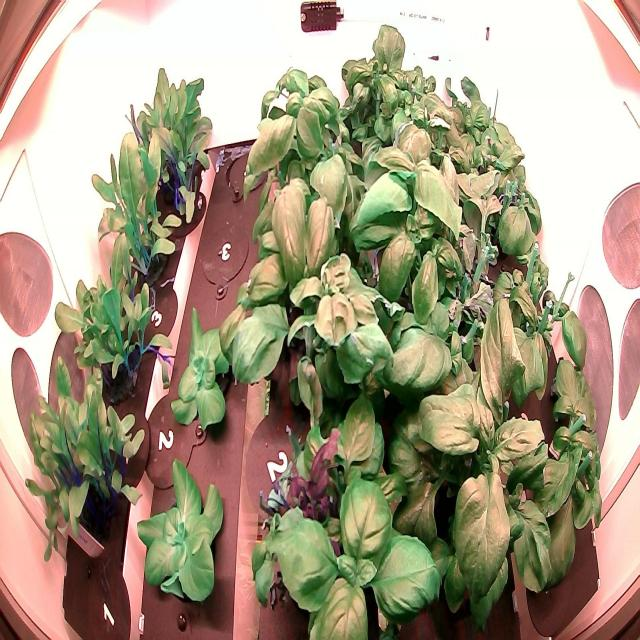empty_pod: (195, 207, 253, 305), (220, 137, 271, 214)
young: (131, 455, 228, 609), (164, 296, 242, 437)
